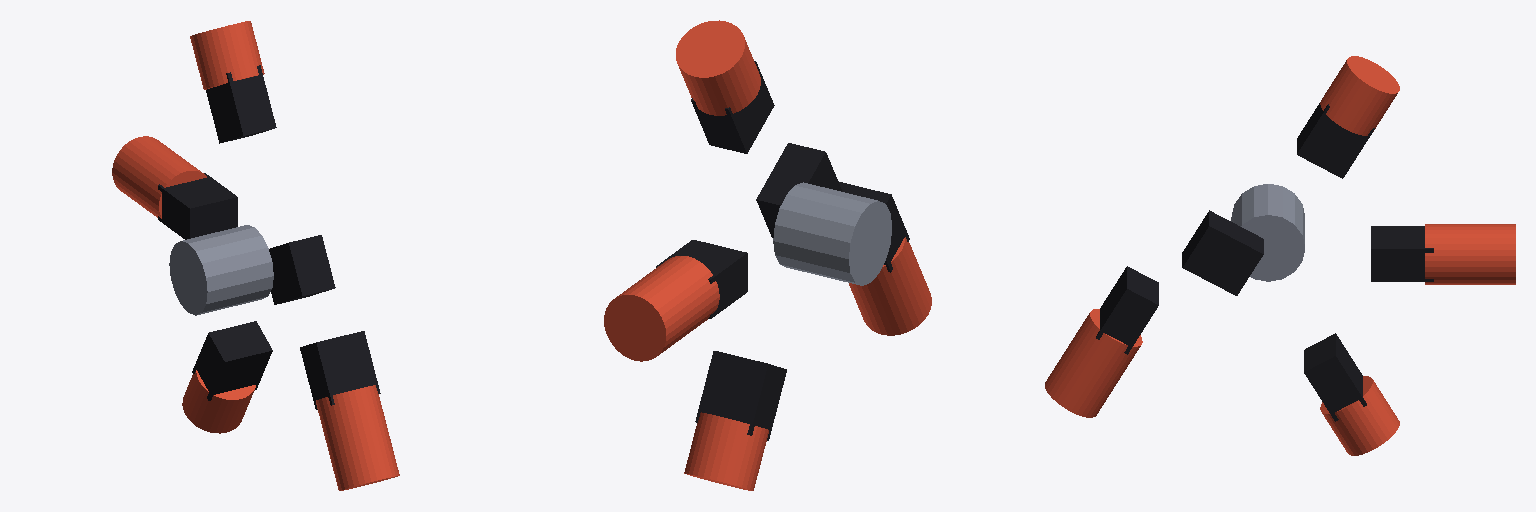
URDF robot description (g0005_c11):
<robot name="g0005_c11">
  <link name="palm">
    <visual name="palm_palm1">
      <origin xyz="0 0 0" rpy="0 0 0" />
      <geometry>
        <mesh filename="palm_palm1.obj" />
      </geometry>
      <material name="palm_palm1_mat">
        <color rgba="0.55 0.57 0.62 1" />
      </material>
    </visual>
    <collision>
      <origin xyz="0 0 0" rpy="0 0 0" />
      <geometry>
        <mesh filename="palm_palm1.obj" />
      </geometry>
    </collision>
    <visual name="palm_mount2">
      <origin xyz="0 0 0" rpy="0 0 0" />
      <geometry>
        <mesh filename="palm_mount2.obj" />
      </geometry>
      <material name="palm_mount2_mat">
        <color rgba="0.55 0.57 0.62 1" />
      </material>
    </visual>
    <collision>
      <origin xyz="0 0 0" rpy="0 0 0" />
      <geometry>
        <mesh filename="palm_mount2.obj" />
      </geometry>
    </collision>
    <visual name="palm_hinge3">
      <origin xyz="0 -0.0244855716 0.00258974596" rpy="-1.57079633 -1.04719755 1.57079633" />
      <geometry>
        <box size="0.029 0.034 0.02" />
      </geometry>
      <material name="palm_hinge3_mat">
        <color rgba="0.15 0.15 0.17 1" />
      </material>
    </visual>
    <collision>
      <origin xyz="0 -0.0244855716 0.00258974596" rpy="-1.57079633 -1.04719755 1.57079633" />
      <geometry>
        <box size="0.029 0.034 0.02" />
      </geometry>
    </collision>
    <visual name="palm_motor4">
      <origin xyz="-0.0045 0.03625 -0.0735048095" rpy="2.0943951 3.061617e-17 -5.30287619e-17" />
      <geometry>
        <box size="0.029 0.034 0.02" />
      </geometry>
      <material name="palm_motor4_mat">
        <color rgba="0.15 0.15 0.17 1" />
      </material>
    </visual>
    <collision>
      <origin xyz="-0.0045 0.03625 -0.0735048095" rpy="2.0943951 3.061617e-17 -5.30287619e-17" />
      <geometry>
        <box size="0.029 0.034 0.02" />
      </geometry>
    </collision>
    <visual name="palm_motor5">
      <origin xyz="0 0.03625 0.0735048095" rpy="-1.57079633 0.523598776 1.57079633" />
      <geometry>
        <box size="0.029 0.034 0.02" />
      </geometry>
      <material name="palm_motor5_mat">
        <color rgba="0.15 0.15 0.17 1" />
      </material>
    </visual>
    <collision>
      <origin xyz="0 0.03625 0.0735048095" rpy="-1.57079633 0.523598776 1.57079633" />
      <geometry>
        <box size="0.029 0.034 0.02" />
      </geometry>
    </collision>
    <visual name="palm_motor6">
      <origin xyz="-0.0045 0.0725 -4.5924255e-19" rpy="-3.14159265 6.123234e-17 3.74939946e-33" />
      <geometry>
        <box size="0.029 0.034 0.02" />
      </geometry>
      <material name="palm_motor6_mat">
        <color rgba="0.15 0.15 0.17 1" />
      </material>
    </visual>
    <collision>
      <origin xyz="-0.0045 0.0725 -4.5924255e-19" rpy="-3.14159265 6.123234e-17 3.74939946e-33" />
      <geometry>
        <box size="0.029 0.034 0.02" />
      </geometry>
    </collision>
    <inertial>
      <origin xyz="0 0.0246356711 -0.00871154861" rpy="-1.57079633 1.19444923 -1.57079633" />
      <mass value="0.736698626" />
      <inertia ixx="0.000753116035" ixy="0" ixz="0" iyy="0.00167440834" iyz="0" izz="0.00235680131" />
    </inertial>
  </link>
  <link name="palm0">
    <visual name="palm0_palm1">
      <origin xyz="0 0 0" rpy="0 0 0" />
      <geometry>
        <mesh filename="palm0_palm1.obj" />
      </geometry>
      <material name="palm0_palm1_mat">
        <color rgba="0.55 0.57 0.62 1" />
      </material>
    </visual>
    <collision>
      <origin xyz="0 0 0" rpy="0 0 0" />
      <geometry>
        <mesh filename="palm0_palm1.obj" />
      </geometry>
    </collision>
    <visual name="palm0_motor2">
      <origin xyz="-0.0045 -0.0452692379 -0.0398445554" rpy="1.04719755 -3.061617e-17 -5.30287619e-17" />
      <geometry>
        <box size="0.029 0.034 0.02" />
      </geometry>
      <material name="palm0_motor2_mat">
        <color rgba="0.15 0.15 0.17 1" />
      </material>
    </visual>
    <collision>
      <origin xyz="-0.0045 -0.0452692379 -0.0398445554" rpy="1.04719755 -3.061617e-17 -5.30287619e-17" />
      <geometry>
        <box size="0.029 0.034 0.02" />
      </geometry>
    </collision>
    <inertial>
      <origin xyz="-9.18554358e-19 -0.0265532016 -0.0155714236" rpy="-3.14159265 0.947695518 -1.57079633" />
      <mass value="0.100858733" />
      <inertia ixx="9.26378012e-06" ixy="0" ixz="0" iyy="0.000113273314" iyz="0" izz="0.000113691972" />
    </inertial>
  </link>
  <link name="f0_link0">
    <visual name="f0_link0_link1">
      <origin xyz="0.029 0 -3.46944695e-18" rpy="-1.57079633 -0 -1.57079633" />
      <geometry>
        <cylinder radius="0.0165" length="0.049" />
      </geometry>
      <material name="f0_link0_link1_mat">
        <color rgba="0.85 0.35 0.25 1" />
      </material>
    </visual>
    <collision>
      <origin xyz="0.029 0 -3.46944695e-18" rpy="-1.57079633 -0 -1.57079633" />
      <geometry>
        <cylinder radius="0.0165" length="0.049" />
      </geometry>
    </collision>
    <inertial>
      <origin xyz="0.029 0 0" rpy="0 0 0" />
      <mass value="0.106270851" />
      <inertia ixx="1.35696277e-05" ixy="0" ixz="0" iyy="5.30015704e-05" iyz="0" izz="5.30015704e-05" />
    </inertial>
  </link>
  <link name="f1_link0">
    <visual name="f1_link0_link1">
      <origin xyz="0.019 0 -3.90312782e-18" rpy="-1.57079633 -0 -1.57079633" />
      <geometry>
        <cylinder radius="0.0165" length="0.029" />
      </geometry>
      <material name="f1_link0_link1_mat">
        <color rgba="0.85 0.35 0.25 1" />
      </material>
    </visual>
    <collision>
      <origin xyz="0.019 0 -3.90312782e-18" rpy="-1.57079633 -0 -1.57079633" />
      <geometry>
        <cylinder radius="0.0165" length="0.029" />
      </geometry>
    </collision>
    <inertial>
      <origin xyz="0.019 0 0" rpy="0 0 0" />
      <mass value="0.0763354" />
      <inertia ixx="9.49466441e-06" ixy="0" ixz="0" iyy="2.24143997e-05" iyz="0" izz="2.24143997e-05" />
    </inertial>
  </link>
  <link name="f2_link0">
    <visual name="f2_link0_link1">
      <origin xyz="0.019 0 3.90312782e-18" rpy="-1.57079633 -0 -1.57079633" />
      <geometry>
        <cylinder radius="0.0165" length="0.029" />
      </geometry>
      <material name="f2_link0_link1_mat">
        <color rgba="0.85 0.35 0.25 1" />
      </material>
    </visual>
    <collision>
      <origin xyz="0.019 0 3.90312782e-18" rpy="-1.57079633 -0 -1.57079633" />
      <geometry>
        <cylinder radius="0.0165" length="0.029" />
      </geometry>
    </collision>
    <inertial>
      <origin xyz="0.019 0 0" rpy="0 0 0" />
      <mass value="0.0763354" />
      <inertia ixx="9.49466441e-06" ixy="0" ixz="0" iyy="2.24143997e-05" iyz="0" izz="2.24143997e-05" />
    </inertial>
  </link>
  <link name="f3_link0">
    <visual name="f3_link0_link1">
      <origin xyz="0.029 0 0" rpy="-1.57079633 -0 -1.57079633" />
      <geometry>
        <cylinder radius="0.0165" length="0.049" />
      </geometry>
      <material name="f3_link0_link1_mat">
        <color rgba="0.85 0.35 0.25 1" />
      </material>
    </visual>
    <collision>
      <origin xyz="0.029 0 0" rpy="-1.57079633 -0 -1.57079633" />
      <geometry>
        <cylinder radius="0.0165" length="0.049" />
      </geometry>
    </collision>
    <inertial>
      <origin xyz="0.029 0 0" rpy="0 0 0" />
      <mass value="0.106270851" />
      <inertia ixx="1.35696277e-05" ixy="0" ixz="0" iyy="5.30015704e-05" iyz="0" izz="5.30015704e-05" />
    </inertial>
  </link>
  <joint name="palm0_joint" type="revolute">
    <parent link="palm" />
    <child link="palm0" />
    <origin xyz="0 -0.0309807621 0.00633974596" rpy="0 0 0" />
    <axis xyz="0 0.5 0.866025404" />
    <limit effort="0.5" lower="-0.523598776" upper="0.523598776" velocity="5" />
    <dynamics damping="0.0775033" friction="0" />
  </joint>
  <joint name="f0_j0" type="revolute">
    <parent link="palm0" />
    <child link="f0_link0" />
    <origin xyz="-0.0045 -0.0490192379 -0.046339746" rpy="0 1.04719755 -1.57079633" />
    <axis xyz="0 1 6.123234e-17" />
    <limit effort="0.5" lower="-0.523598776" upper="0.523598776" velocity="5" />
    <dynamics damping="0.0775033" friction="0" />
  </joint>
  <joint name="f1_j0" type="revolute">
    <parent link="palm" />
    <child link="f1_link0" />
    <origin xyz="-0.0045 0.04 -0.08" rpy="3.14159265 1.04719755 1.57079633" />
    <axis xyz="0 1 6.123234e-17" />
    <limit effort="0.5" lower="-0.523598776" upper="0.523598776" velocity="5" />
    <dynamics damping="0.0775033" friction="0" />
  </joint>
  <joint name="f2_j0" type="revolute">
    <parent link="palm" />
    <child link="f2_link0" />
    <origin xyz="0 0.04 0.08" rpy="-3.14159265 -1.04719755 1.57079633" />
    <axis xyz="0 0 1" />
    <limit effort="0.5" lower="-0.523598776" upper="1.57079633" velocity="5" />
    <dynamics damping="0.0775033" friction="0" />
  </joint>
  <joint name="f3_j0" type="revolute">
    <parent link="palm" />
    <child link="f3_link0" />
    <origin xyz="-0.0045 0.08 0" rpy="-3.14159265 -6.123234e-17 1.57079633" />
    <axis xyz="0 1 6.123234e-17" />
    <limit effort="0.5" lower="-0.523598776" upper="0.523598776" velocity="5" />
    <dynamics damping="0.0775033" friction="0" />
  </joint>
</robot>

--- Facts derived from the render (not from the file) ---
Views: 3 orthographic renders of the robot side by side, from view 1: azimuth 30°, elevation 25°; view 2: azimuth 150°, elevation 25°; view 3: azimuth 270°, elevation 25°.
Model g0005_c11 with 6 links and 5 joints (5 revolute), rooted at palm, posed every joint at zero.
Links seen in each view (by area): view 1: palm, f0_link0, f3_link0, palm0, f2_link0, f1_link0; view 2: palm, f3_link0, f2_link0, f1_link0, f0_link0, palm0; view 3: palm, f3_link0, f0_link0, f2_link0, palm0, f1_link0.
Link boxes in pixels (x1,y1,x2,y2): palm: (158,65,335,400); f0_link0: (316,385,399,490); f3_link0: (112,136,206,218); palm0: (300,331,380,409); f2_link0: (190,21,264,89); f1_link0: (182,370,255,433); palm: (656,61,891,440); f3_link0: (604,256,719,361); f2_link0: (676,20,760,115); f1_link0: (684,412,768,490); f0_link0: (849,237,931,335); palm0: (838,181,909,272); palm: (1182,103,1433,421); f3_link0: (1425,224,1515,284); f0_link0: (1045,309,1142,417); f2_link0: (1320,56,1399,135); palm0: (1096,266,1158,354); f1_link0: (1320,376,1399,455).
Bounding box of the posed robot: 0.0685 × 0.2545 × 0.2345 m (x, y, z).
Meshes: 3 distinct files referenced, 1 mesh visuals loaded (1 OBJ); not drawn: 2 (reference not matched to a file when rendering).
